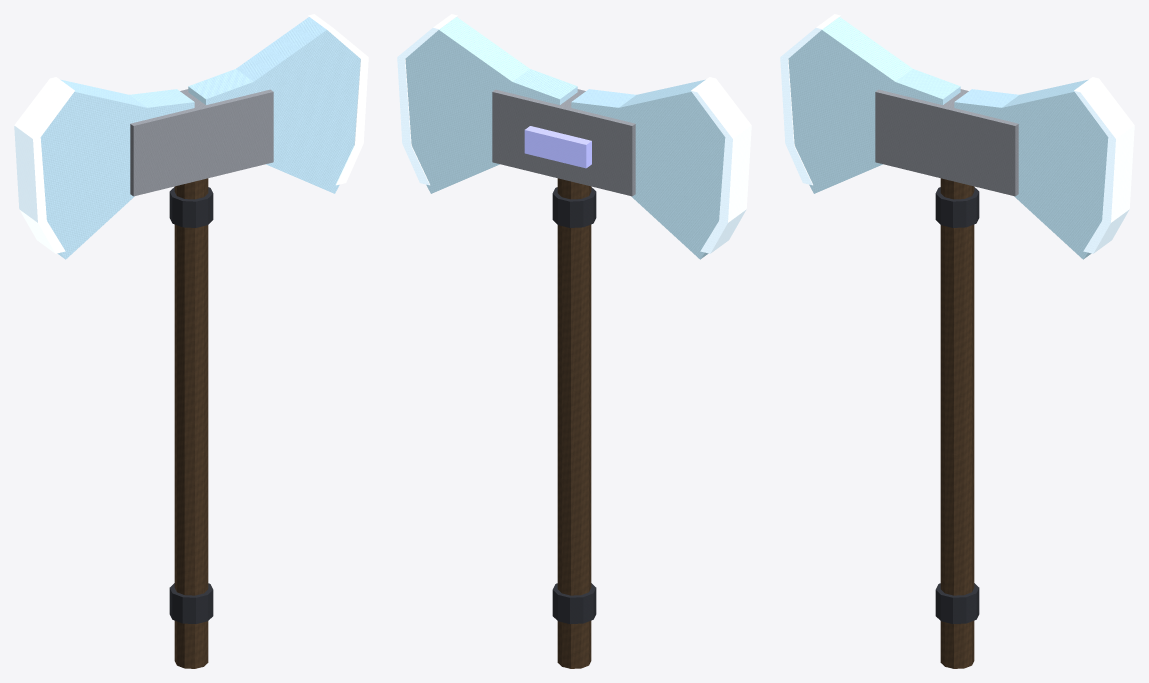
The model's file is crystal-weapon-battleaxe.glb.
3 views of the same model, side by side, from view 1: azimuth 30°, elevation 25°; view 2: azimuth 150°, elevation 25°; view 3: azimuth 330°, elevation 25° (orthographic).
Visible parts, largest first — view 1: long-haft, right-head, left-head, head-core, left-edge, right-edge, band-mid, band-low; view 2: long-haft, right-head, left-head, head-core, left-edge, prismatic-eye, right-edge, band-mid, band-low; view 3: long-haft, left-head, right-head, head-core, right-edge, left-edge, band-mid, band-low.
Boxes of the visible parts, box(x1,y1,x2,y2) form: long-haft: box(174, 178, 208, 668); right-head: box(188, 17, 360, 193); left-head: box(40, 79, 194, 259); head-core: box(130, 89, 273, 196); left-edge: box(14, 77, 74, 253); right-edge: box(308, 14, 368, 185); band-mid: box(169, 187, 213, 227); band-low: box(169, 583, 213, 623); long-haft: box(557, 178, 591, 668); right-head: box(405, 17, 577, 193); left-head: box(571, 79, 725, 259); head-core: box(492, 89, 635, 196); left-edge: box(691, 77, 751, 253); prismatic-eye: box(524, 126, 591, 168); right-edge: box(397, 14, 457, 185); band-mid: box(552, 187, 596, 227); band-low: box(552, 583, 596, 623); long-haft: box(940, 178, 974, 668); left-head: box(788, 17, 960, 193); right-head: box(954, 79, 1108, 259); head-core: box(875, 89, 1018, 196); right-edge: box(1074, 77, 1134, 253); left-edge: box(780, 14, 840, 185); band-mid: box(935, 187, 979, 227); band-low: box(935, 583, 979, 623).
Bounding box in the file's own units: 0.8982 × 1.56 × 0.1444.
Materials: 6 (6 with a texture image).
